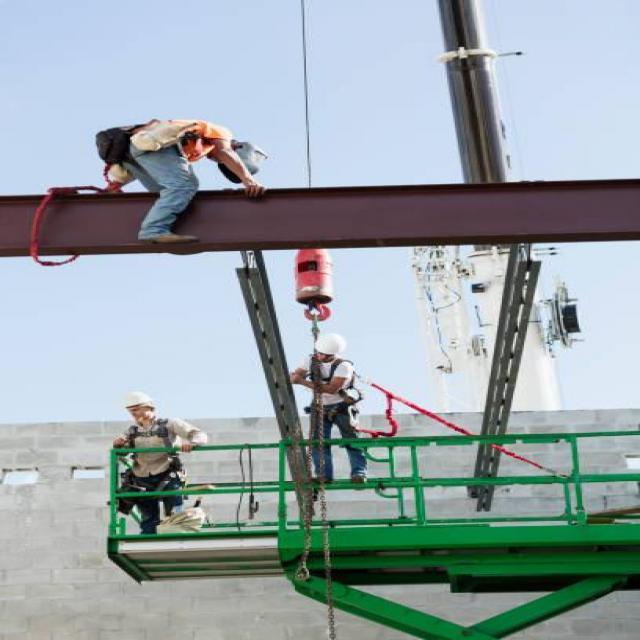belt: (122, 418, 182, 494), (304, 357, 360, 423)
